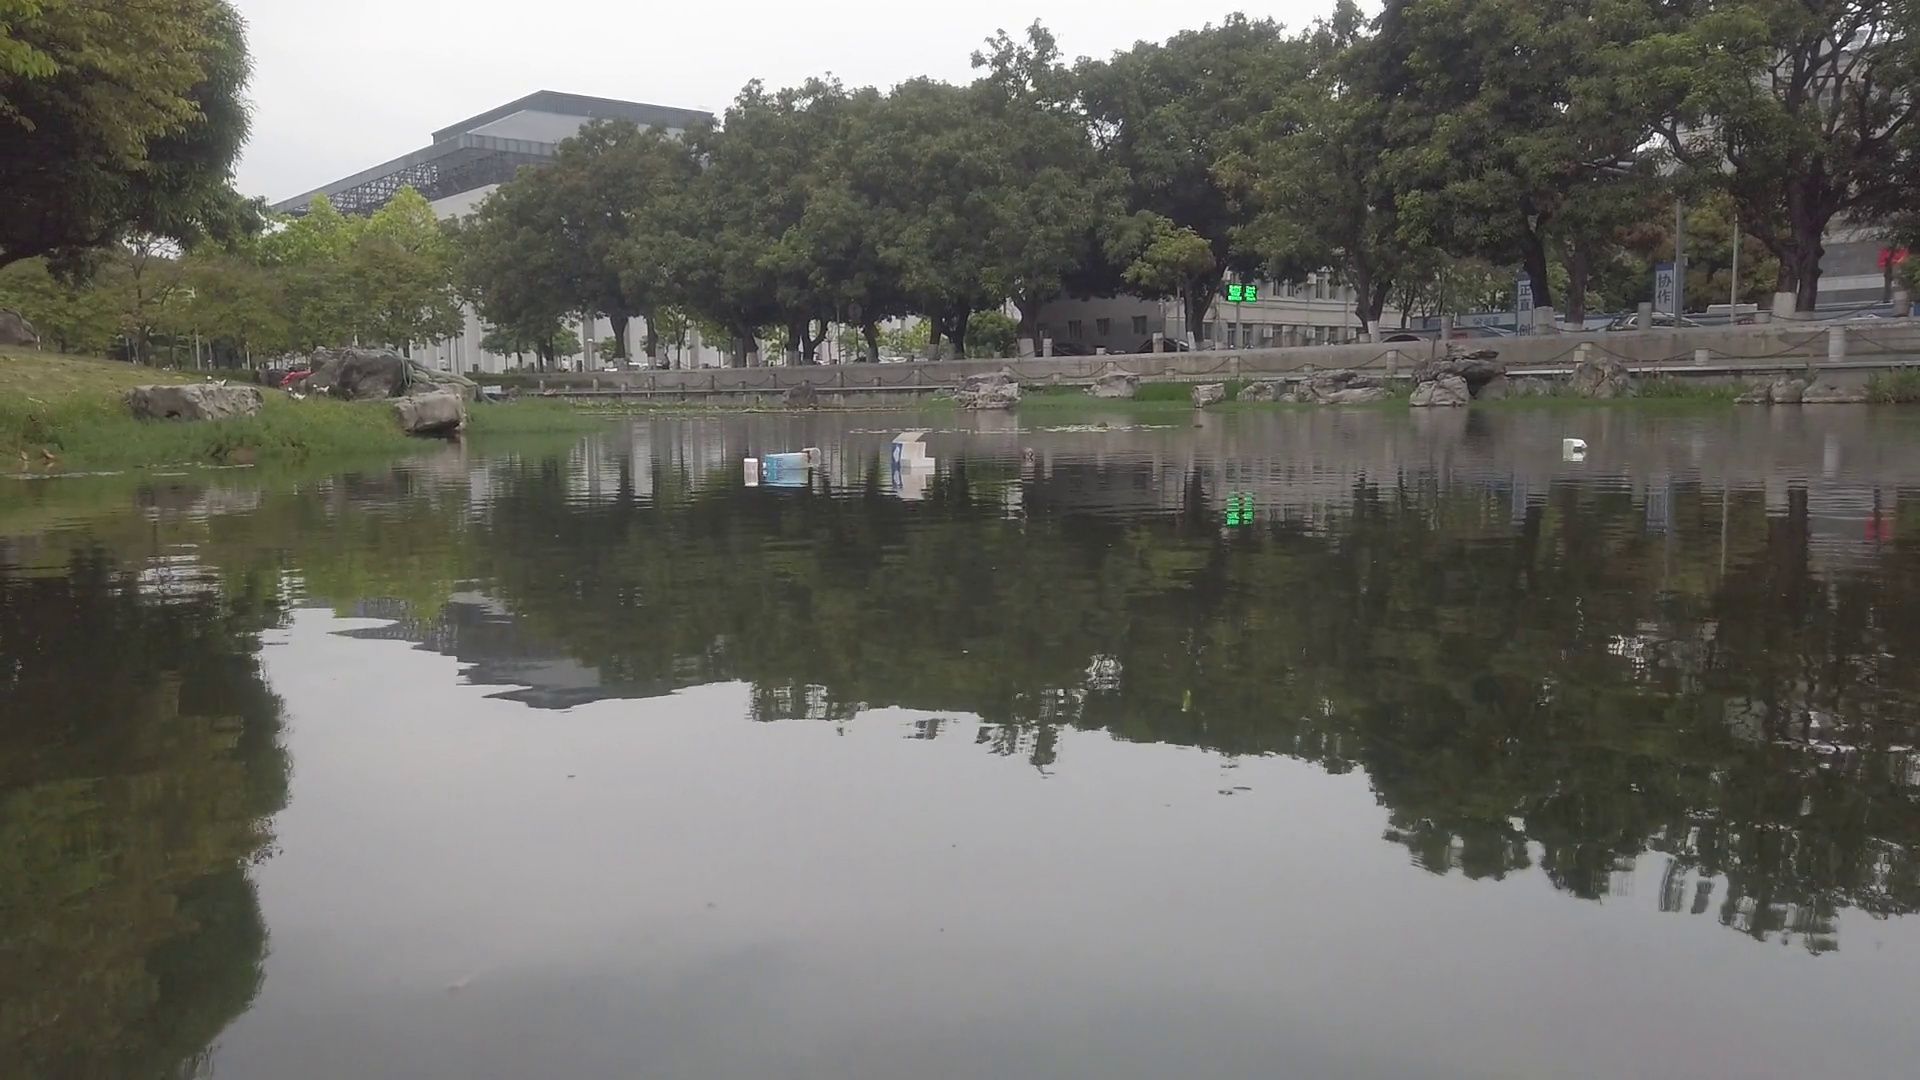bottle: (804, 443, 828, 469), (1023, 444, 1038, 460)
carton: (890, 427, 934, 477), (767, 450, 804, 469), (742, 451, 760, 483), (1563, 435, 1592, 454)
